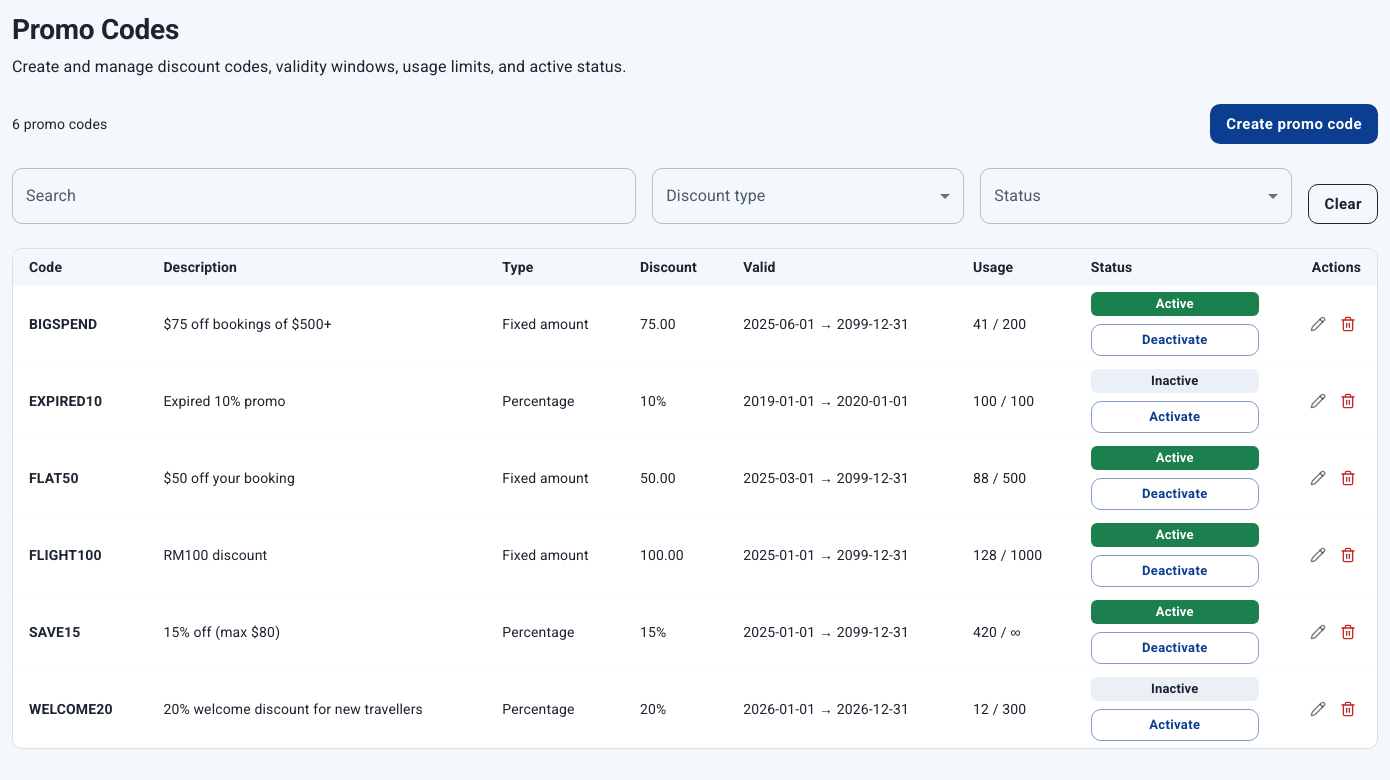
Test: AdminPromoCodesPage › filters by discount type and status
The image size is (1390, 780).
Expected: the text "FLIGHT100" is shown, [29,547,102,563]
Click the dropdown named "Discount type" next to "Discount type" at (808, 196), box [652,168,964,224]
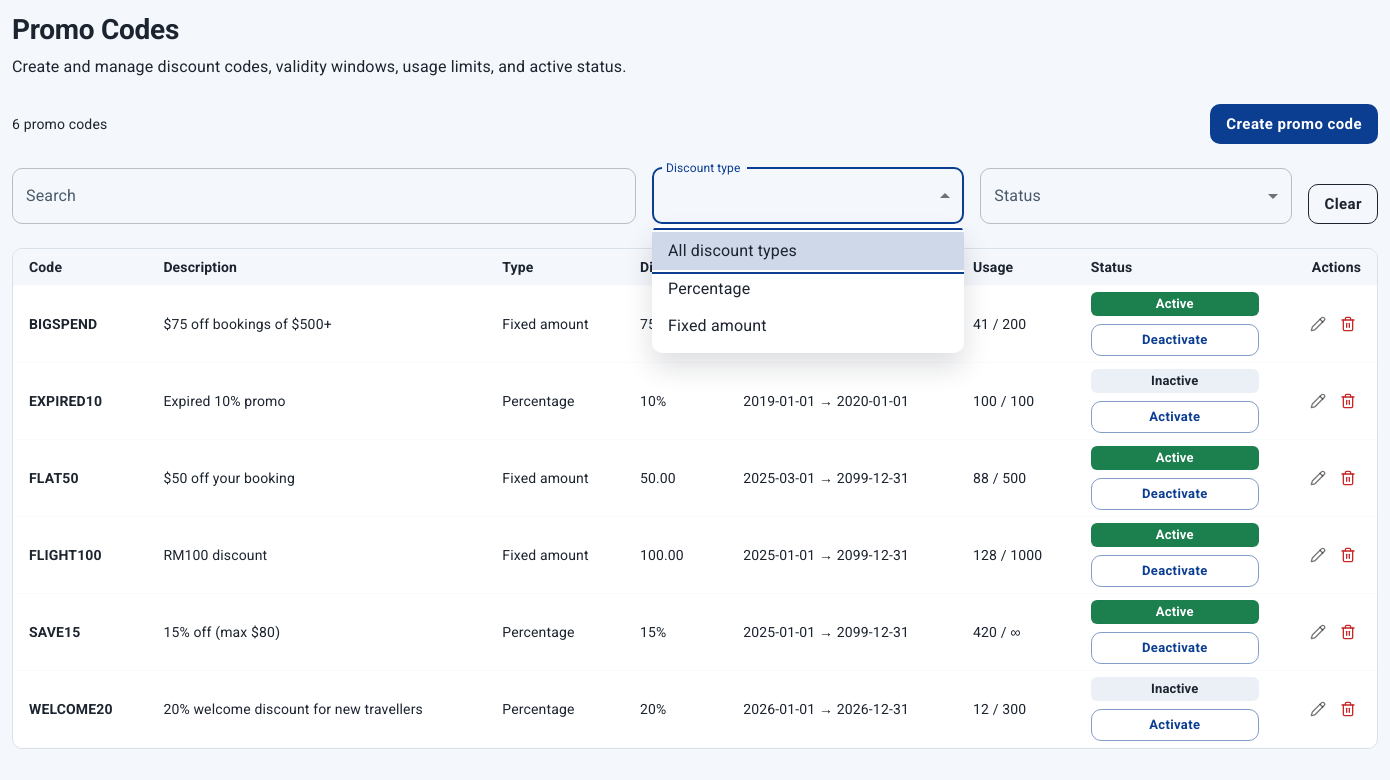
Click the option "Percentage" at (709, 288), box [668,279,750,298]
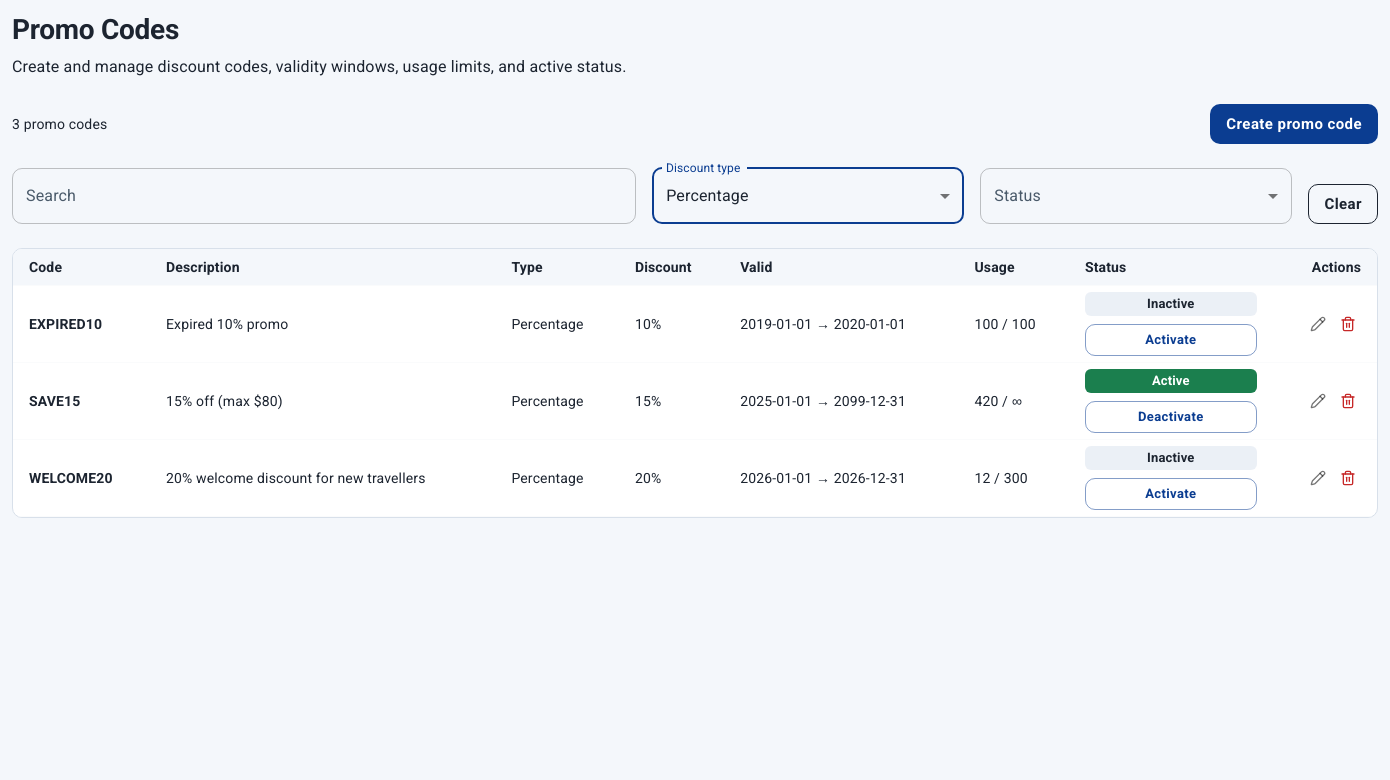
Expected: the text "SAVE15" is shown, [29,393,80,409]
Expected: the list is gone
Expected: the text "FLIGHT100" is gone
Click the button "Clear" at (1343, 204), box [1308,184,1378,224]
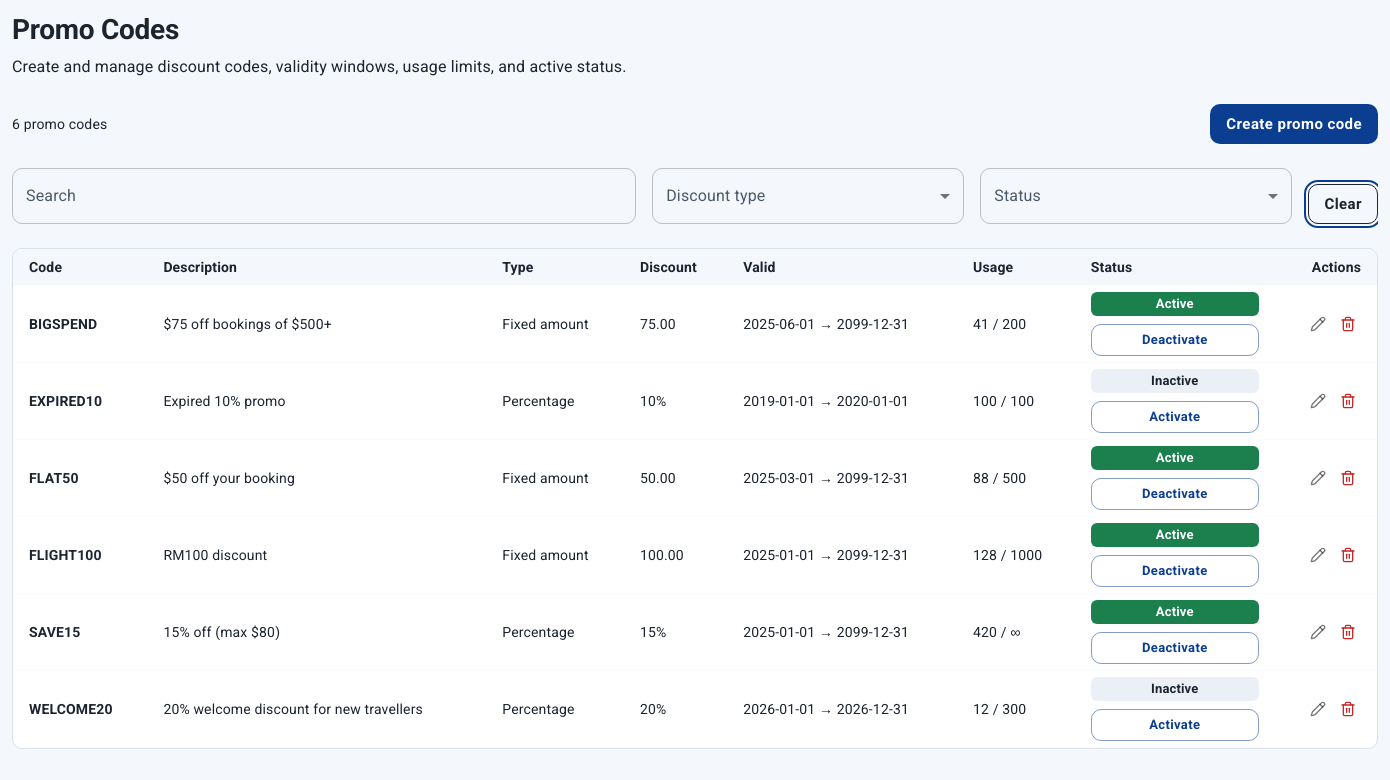
Expected: the text "FLIGHT100" is shown, [29,547,102,563]
Click the 2nd dropdown named "Status" at (1136, 196), box [980,168,1292,224]
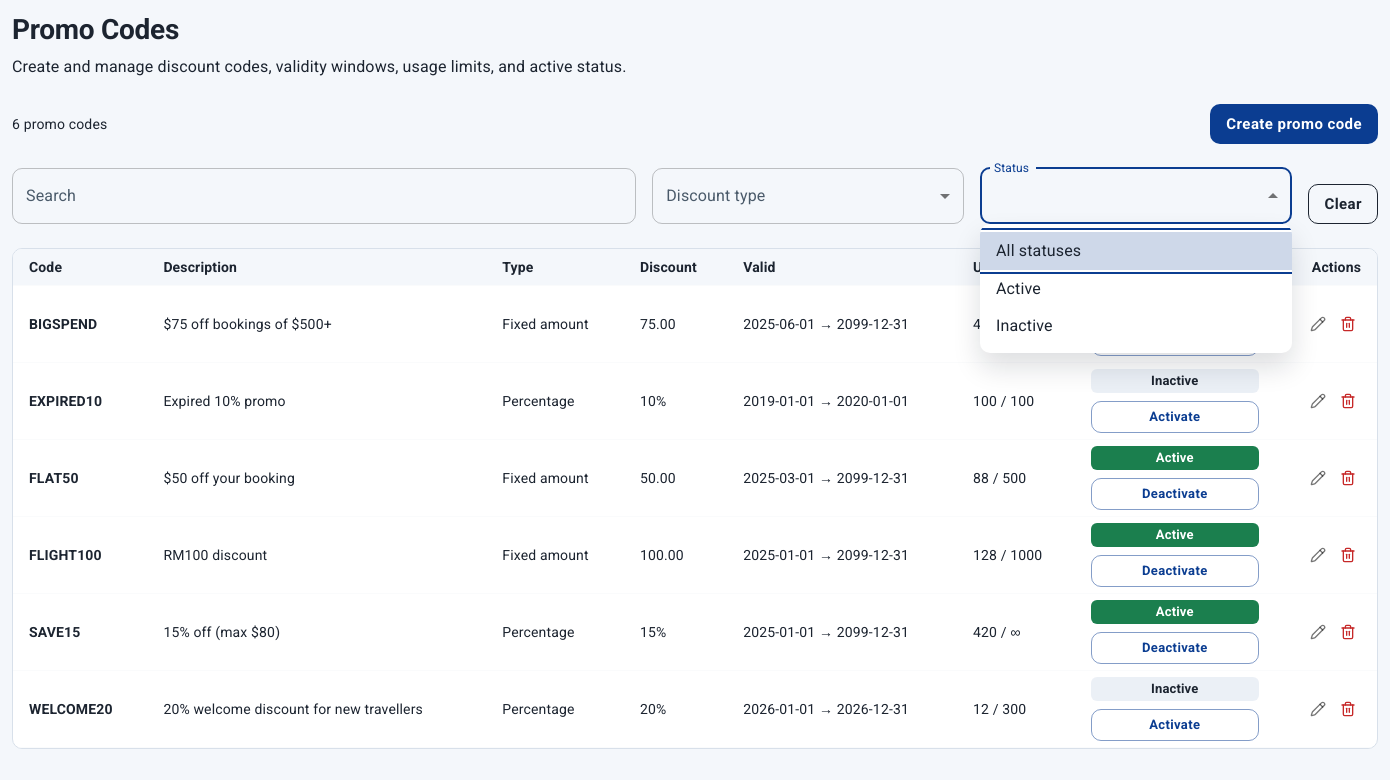
Click the option "Inactive" at (1024, 326), box [996,316,1053,335]
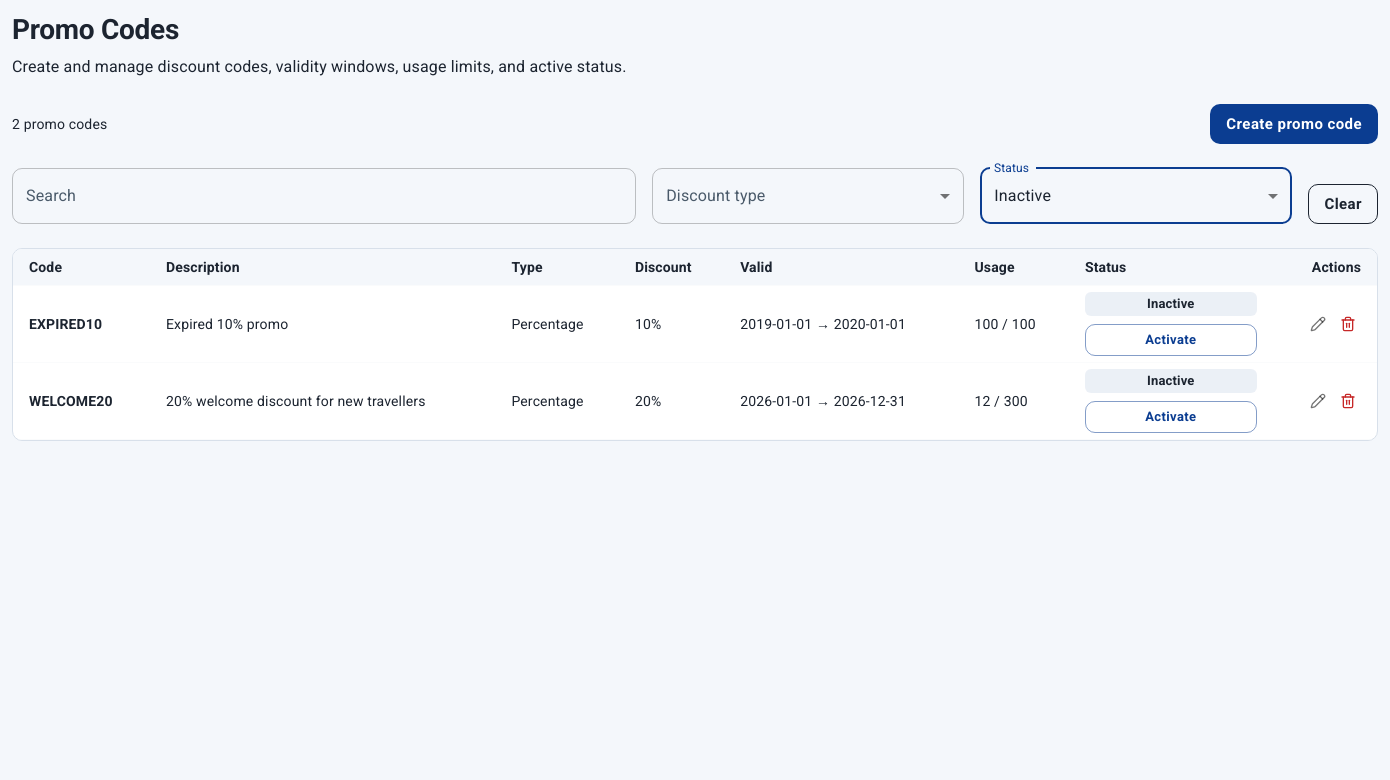
Expected: the text "EXPIRED10" is shown, [29,316,102,332]
Expected: the list is gone
Expected: the text "FLIGHT100" is gone
